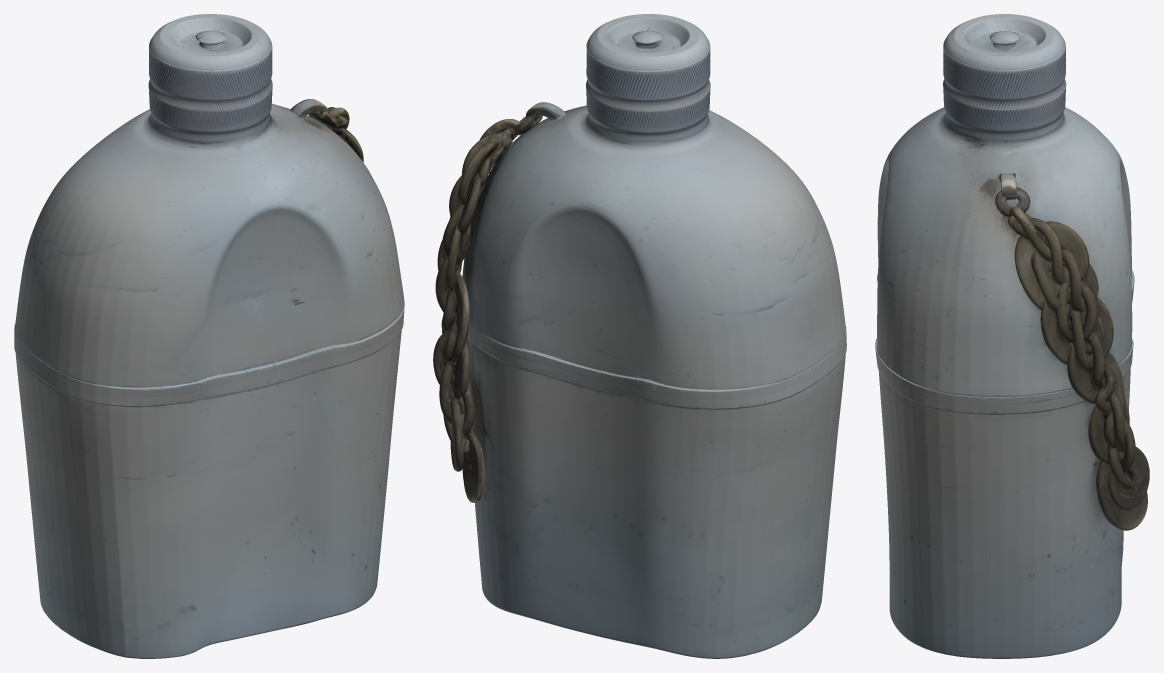
The model's file is 南侨机工陈昭藻在滇缅路服务时用的水壶.glb.
The picture shows the model from 3 angles, left to right: view 1: azimuth 30°, elevation 25°; view 2: azimuth 150°, elevation 25°; view 3: azimuth 270°, elevation 25°; orthographic projection.
Visible parts, largest first — view 1: texture_pbr_v128; view 2: texture_pbr_v128; view 3: texture_pbr_v128.
Boxes of the visible parts, box(x1,y1,x2,y2) form: texture_pbr_v128: box(14, 14, 404, 658); texture_pbr_v128: box(433, 14, 846, 658); texture_pbr_v128: box(875, 14, 1149, 658).
Bounding box in the file's own units: 0.6732 × 1.05 × 0.4692.
Materials: 1 (1 with a texture image).
